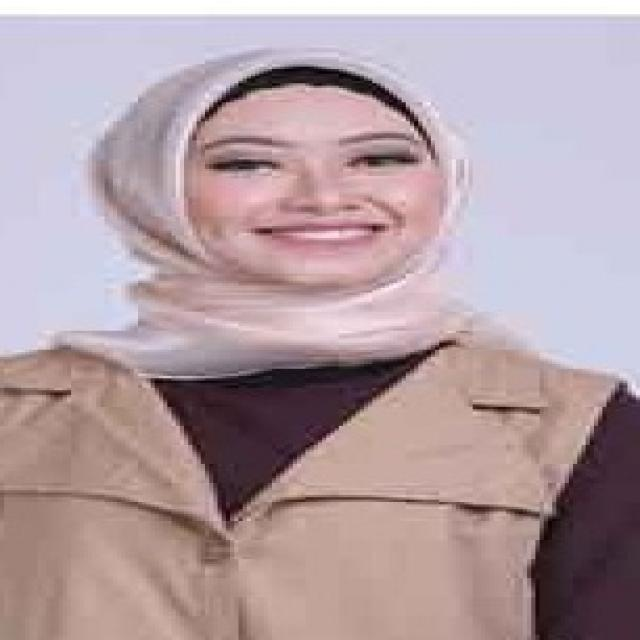head: (103, 46, 453, 300)
